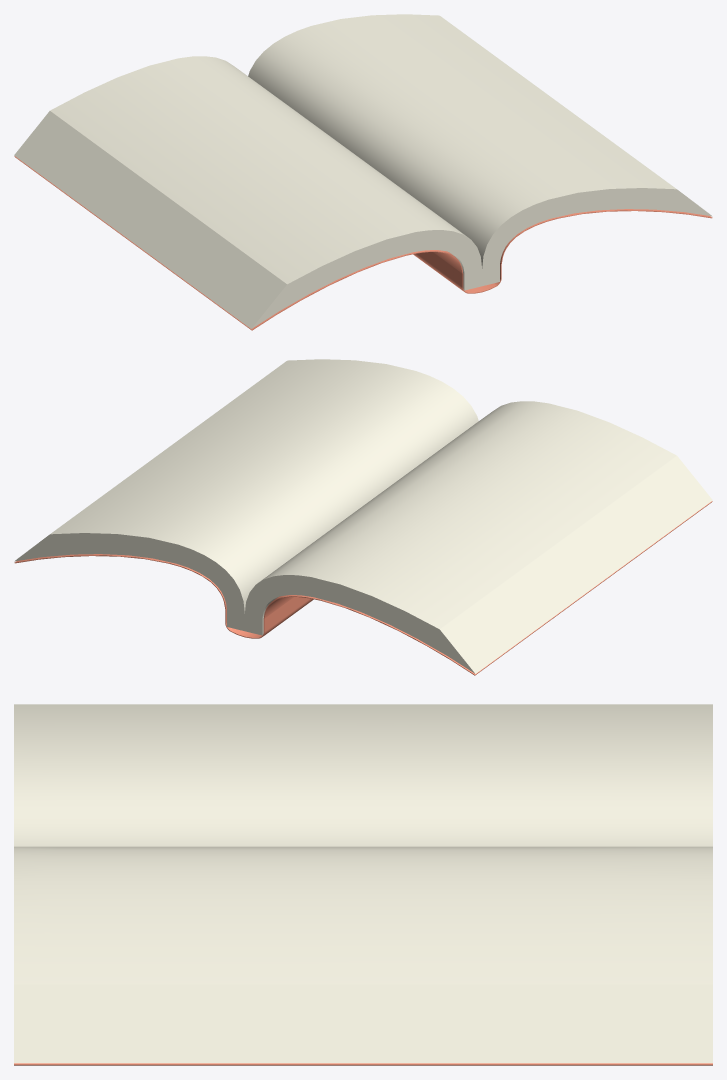
The model's file is Book_Open.fbx.
The picture shows the model from 3 angles, top to bottom: view 1: azimuth 30°, elevation 25°; view 2: azimuth 150°, elevation 25°; view 3: azimuth 270°, elevation 25°; orthographic projection. The views are drawn at different scales.
Visible parts, largest first — view 1: 142_本(開)(漫画サイズ); view 2: 142_本(開)(漫画サイズ); view 3: 142_本(開)(漫画サイズ).
Part boxes in pixels (x1,y1,x2,y2): 142_本(開)(漫画サイズ): (14, 14, 712, 330); 142_本(開)(漫画サイズ): (14, 359, 712, 675); 142_本(開)(漫画サイズ): (14, 704, 712, 1065).
Size of the model in its own units: 19.54 by 3.11 by 17.4.
